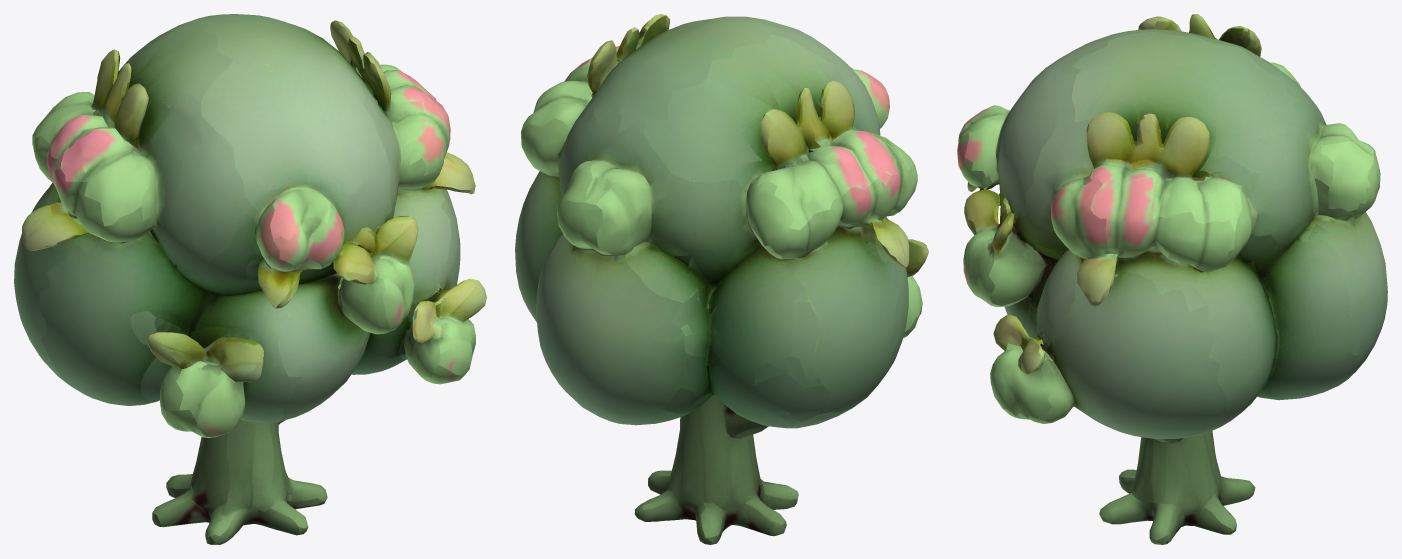
The model's file is fruit_tree_peach_bare.glb.
The picture shows the model from 3 angles, left to right: view 1: azimuth 30°, elevation 25°; view 2: azimuth 150°, elevation 25°; view 3: azimuth 270°, elevation 25°; orthographic projection. The views are drawn at different scales.
Parts seen in each view (by area): view 1: fruit_tree_peach_s71; view 2: fruit_tree_peach_s71; view 3: fruit_tree_peach_s71.
Part boxes in pixels (bbox=[...]): fruit_tree_peach_s71: bbox=[14, 14, 486, 544]; fruit_tree_peach_s71: bbox=[515, 14, 928, 544]; fruit_tree_peach_s71: bbox=[957, 14, 1387, 544].
Bounding box in the file's own units: 0.8637 × 1 × 0.8383.
1 material, 1 textured.
